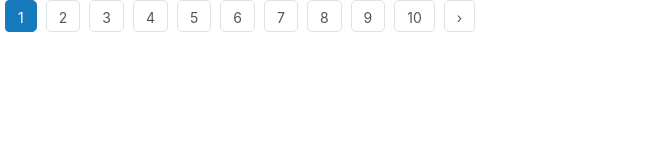
Test case: `<MarvelPagination>` › Show Next Item when active is bigger than or equal 9
Click the button "10" at (415, 16), box [394,0,435,32]
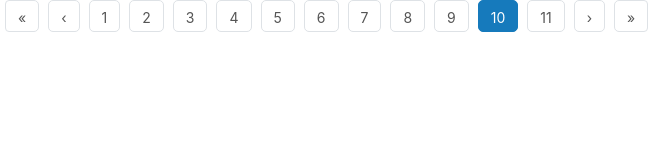
Now the number of buttons with test id "paginationItems" is 11
Now the button "11" is shown, box [527,0,565,32]
